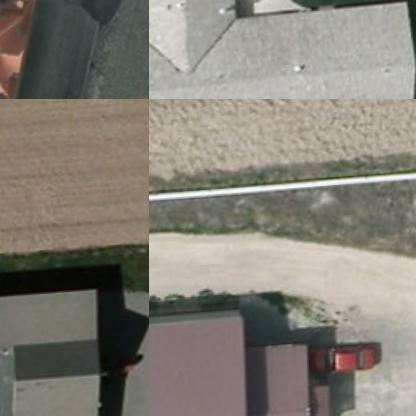car: (310, 343, 382, 377)
